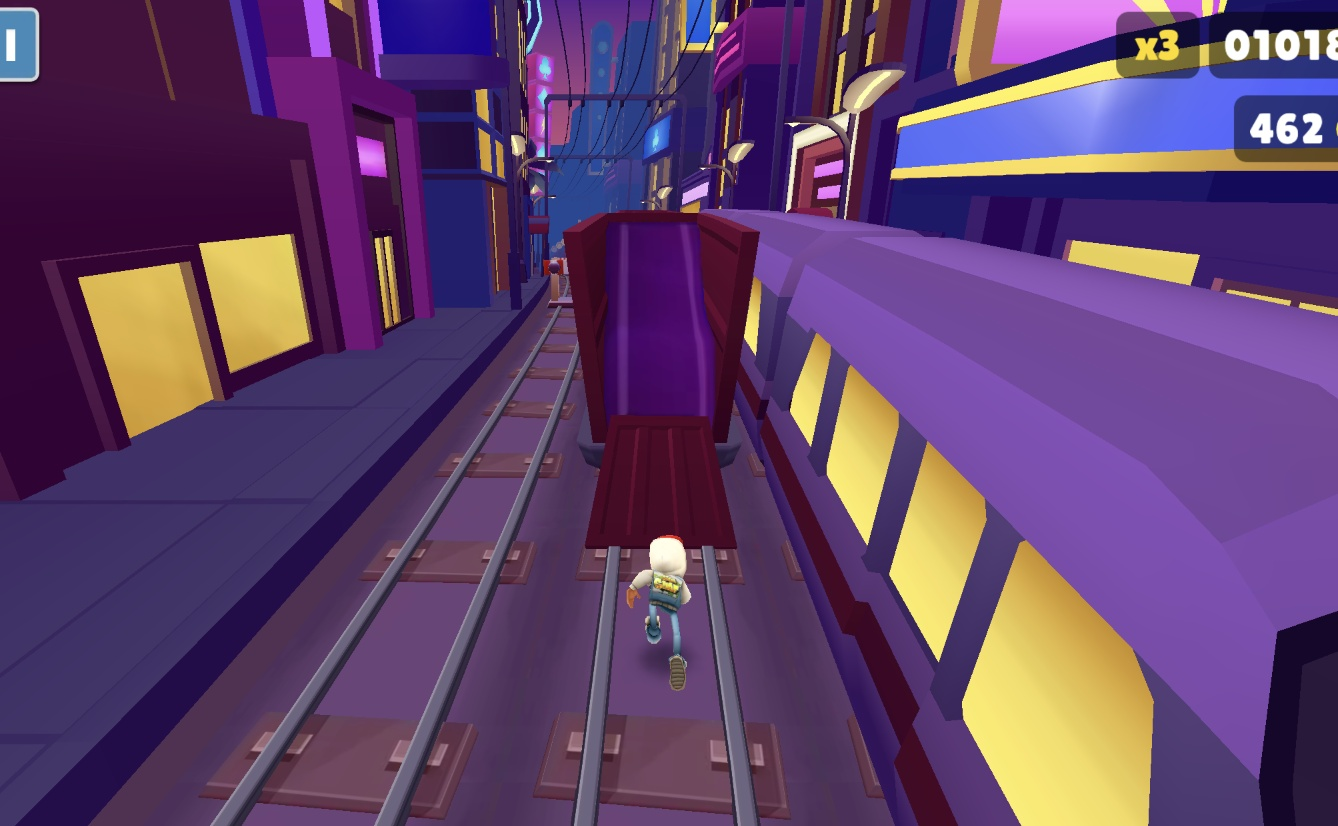train: (741, 205, 1338, 826), (567, 217, 756, 534)
